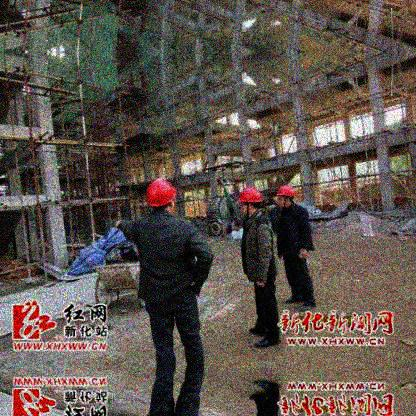helmet: (145, 176, 176, 214), (239, 188, 262, 217), (276, 186, 297, 208)
